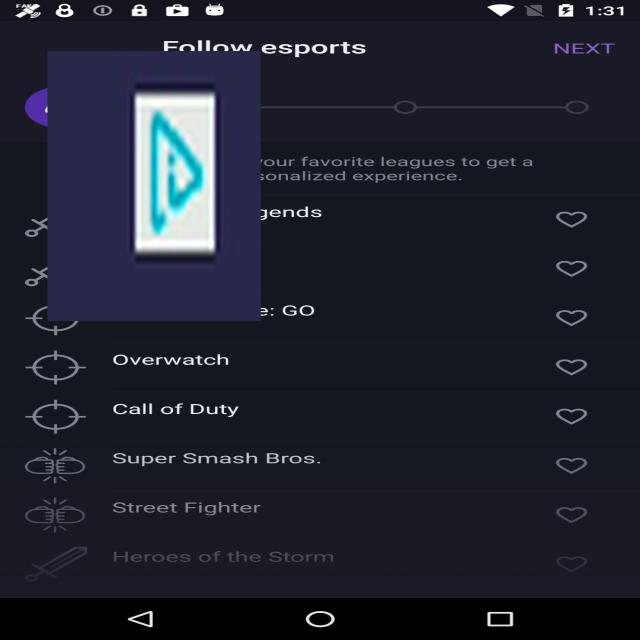sneaking: (47, 51, 261, 321)
